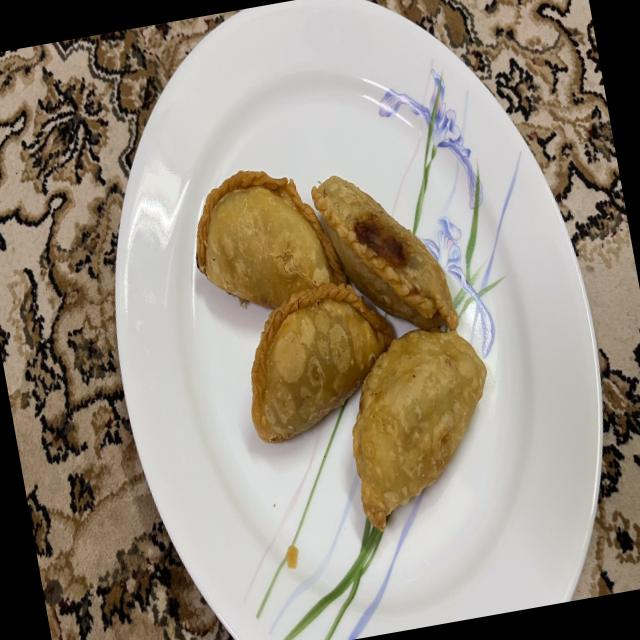karipap: (352, 329, 486, 530), (251, 280, 393, 443), (311, 175, 458, 331), (196, 169, 346, 308)
